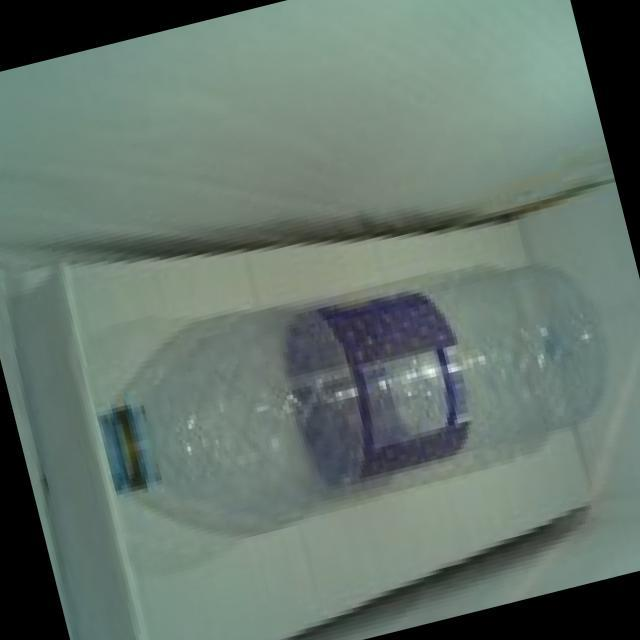good: (38, 203, 640, 590)
